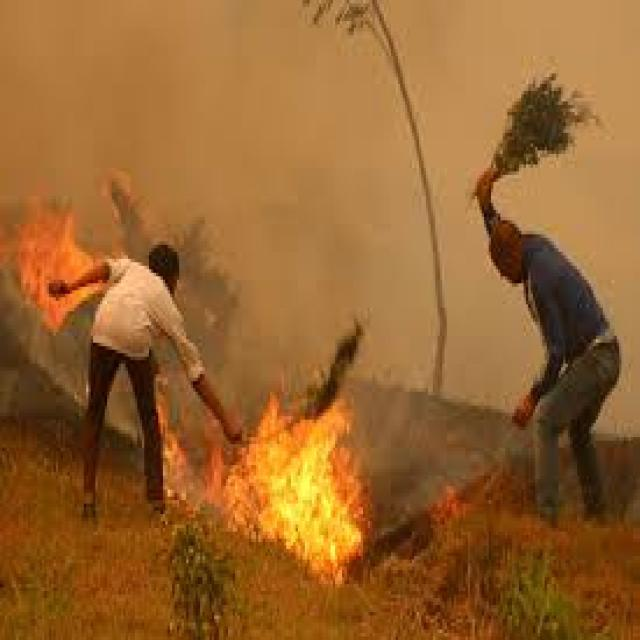fire: (225, 393, 363, 590), (20, 213, 110, 327), (157, 399, 189, 502)
